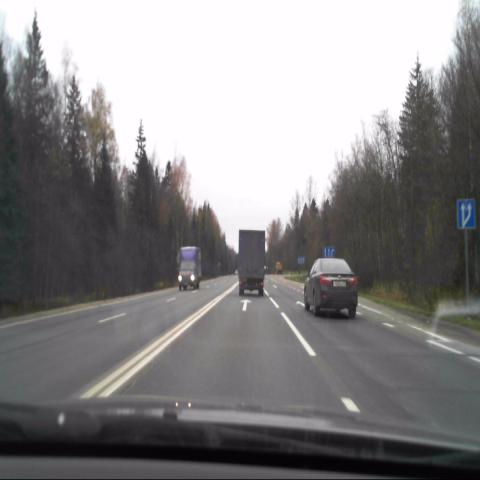5_15_3: (456, 199, 476, 231)
